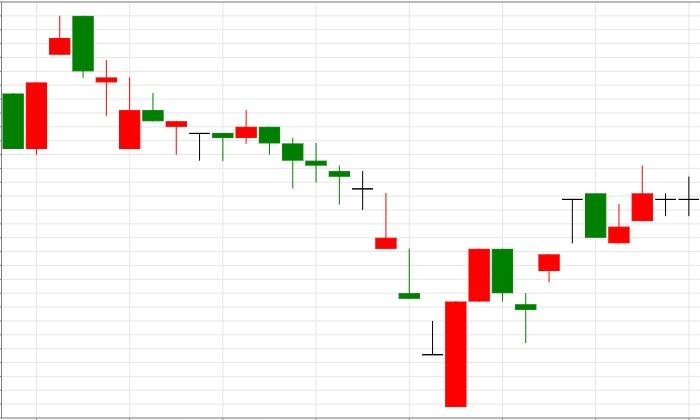bearish_engulfing_fall: (2, 15, 94, 154)
